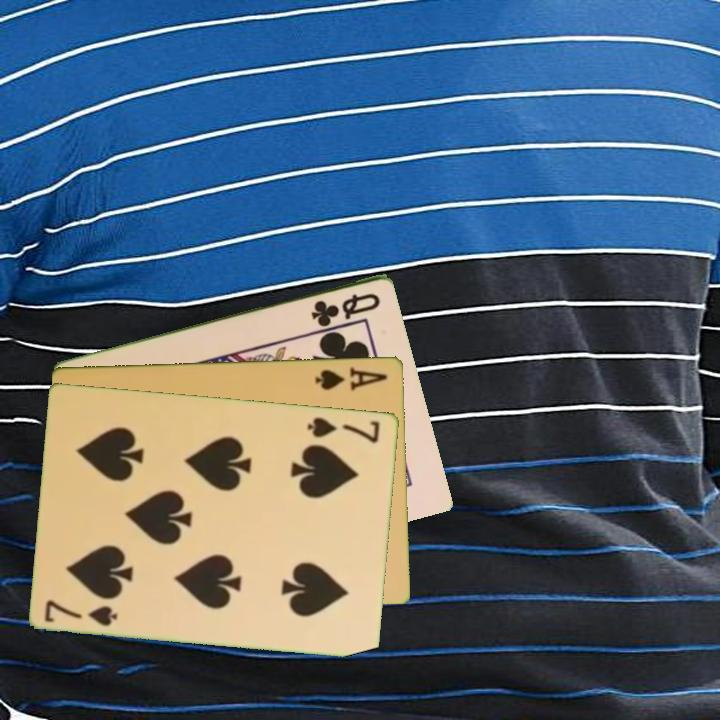7s: (41, 596, 121, 629), (304, 413, 383, 446)
As: (312, 363, 390, 393)
Qc: (307, 288, 384, 329)
